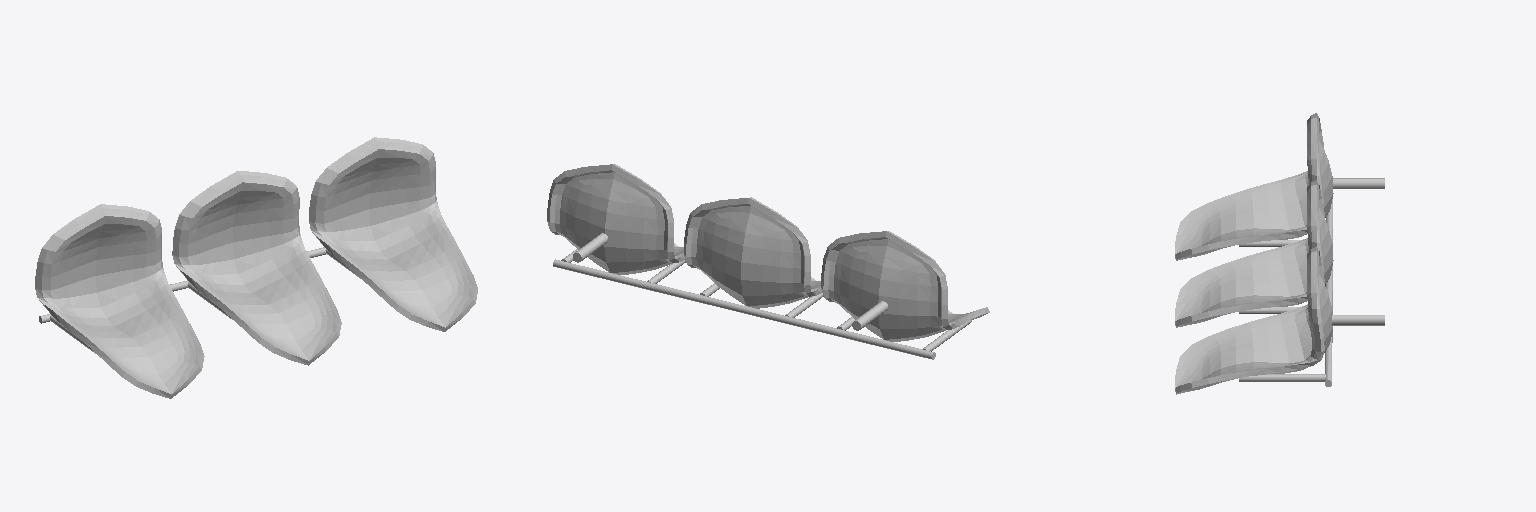
The model's file is seats.obj.
3 renders of one model, left to right at view 1: azimuth 30°, elevation 25°; view 2: azimuth 150°, elevation 25°; view 3: azimuth 270°, elevation 25°, orthographic.
Parts seen in each view (by area): view 1: Object.12, Object.11, Object.10; view 2: Object.11, Object.12, Object.10, Object.3; view 3: Object.10, Object.12, Object.11, Object.4, Object.3, Object.1, Object.2.
Boxes of the visible parts, x1,y1,x2,y2 form: Object.12: [35, 204, 204, 398]; Object.11: [172, 171, 341, 365]; Object.10: [309, 137, 477, 331]; Object.11: [684, 197, 821, 308]; Object.12: [821, 231, 989, 341]; Object.10: [547, 164, 684, 274]; Object.3: [553, 259, 935, 359]; Object.10: [1175, 246, 1332, 394]; Object.12: [1175, 113, 1333, 260]; Object.11: [1175, 180, 1333, 327]; Object.4: [1239, 374, 1325, 381]; Object.3: [1325, 199, 1332, 386]; Object.1: [1332, 315, 1384, 325]; Object.2: [1333, 178, 1384, 188].
Bounding box in the file's own units: 60.61 × 20.76 × 27.61.